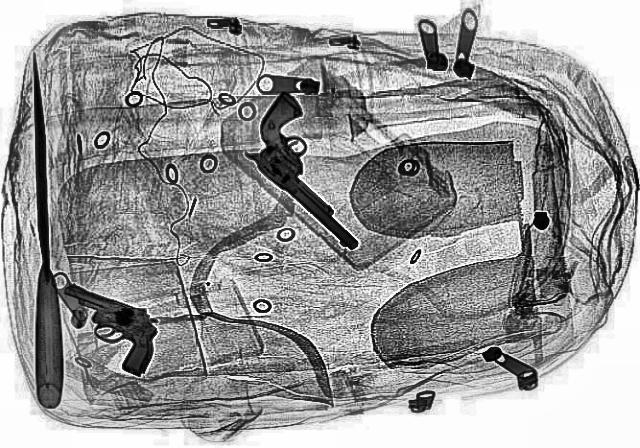Gun: (206, 90, 428, 250), (21, 279, 188, 376)
Knife: (15, 52, 67, 406)
